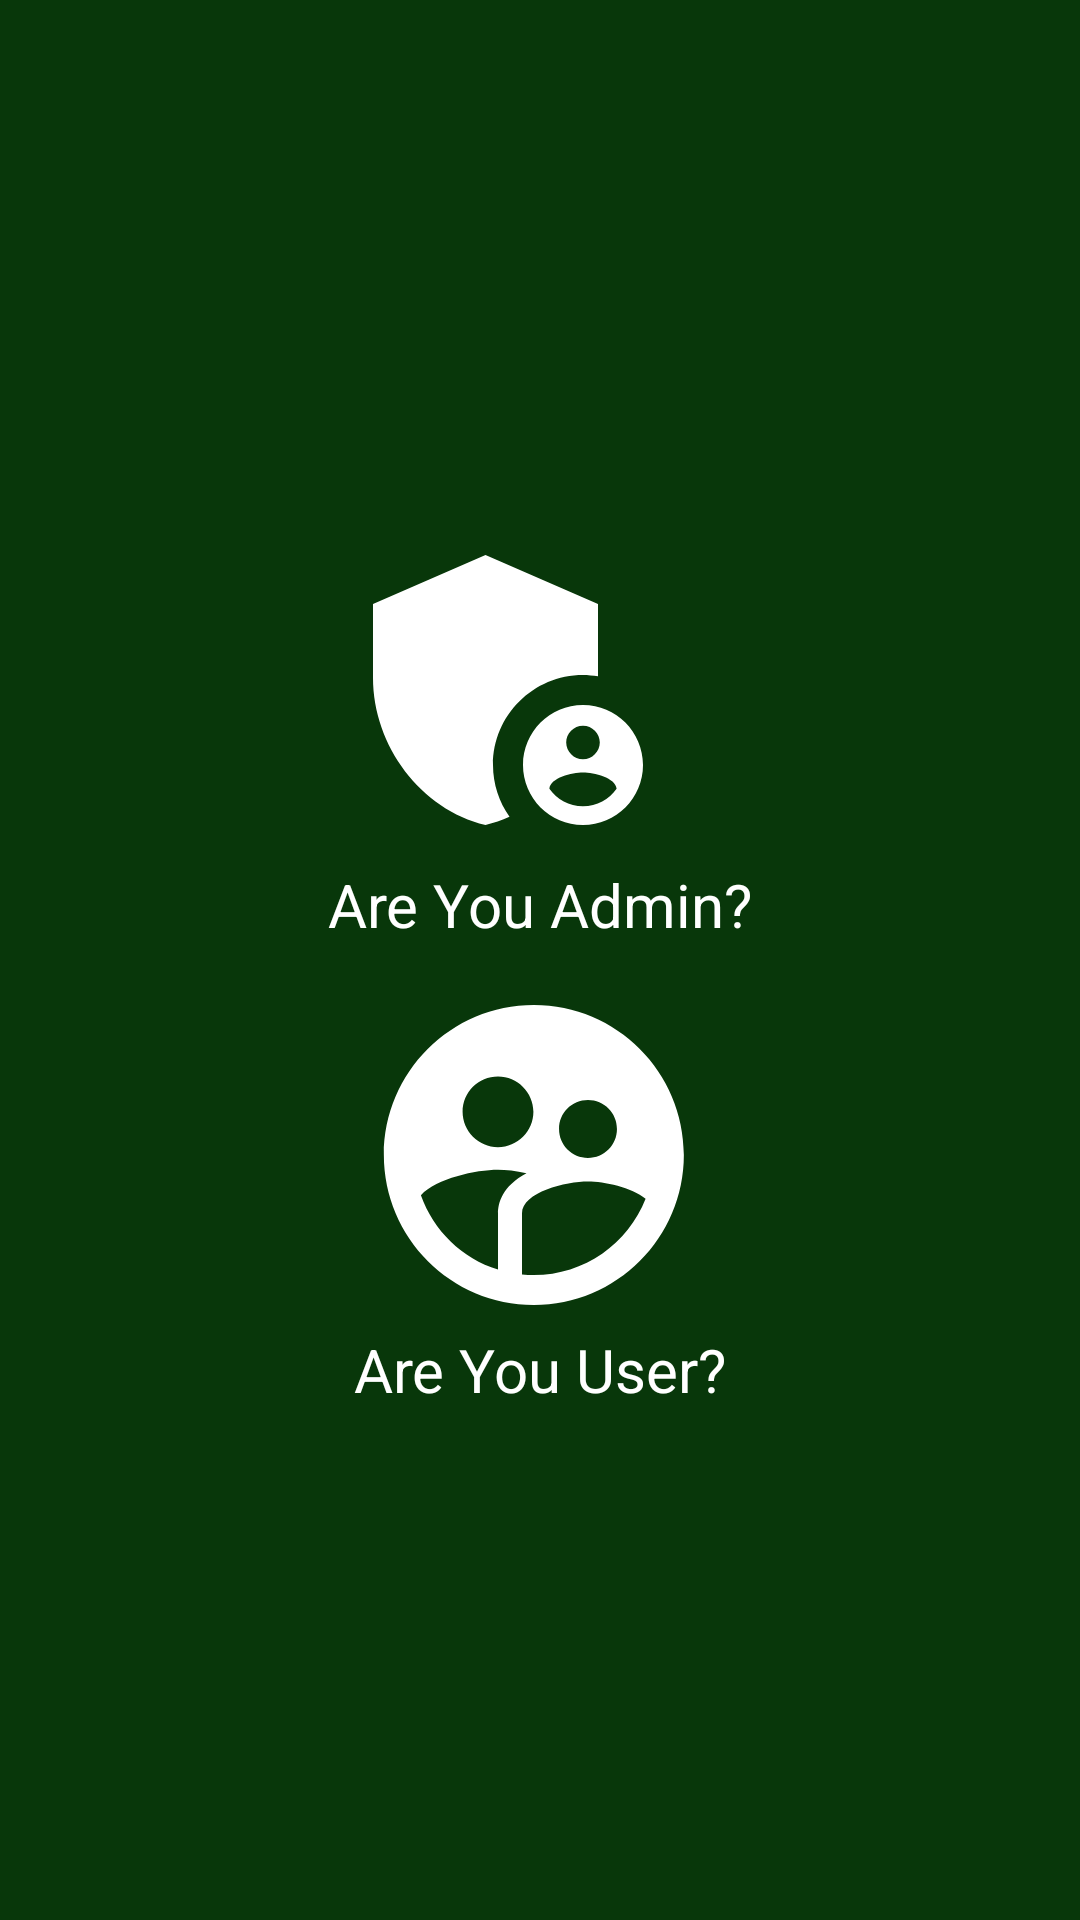

Icons on this 1080px×1920px Android screen, each with its box as (x1, y1, x2, y2):
admin panel settings: (373, 555, 643, 825)
supervised user circle: (383, 1005, 684, 1305)
